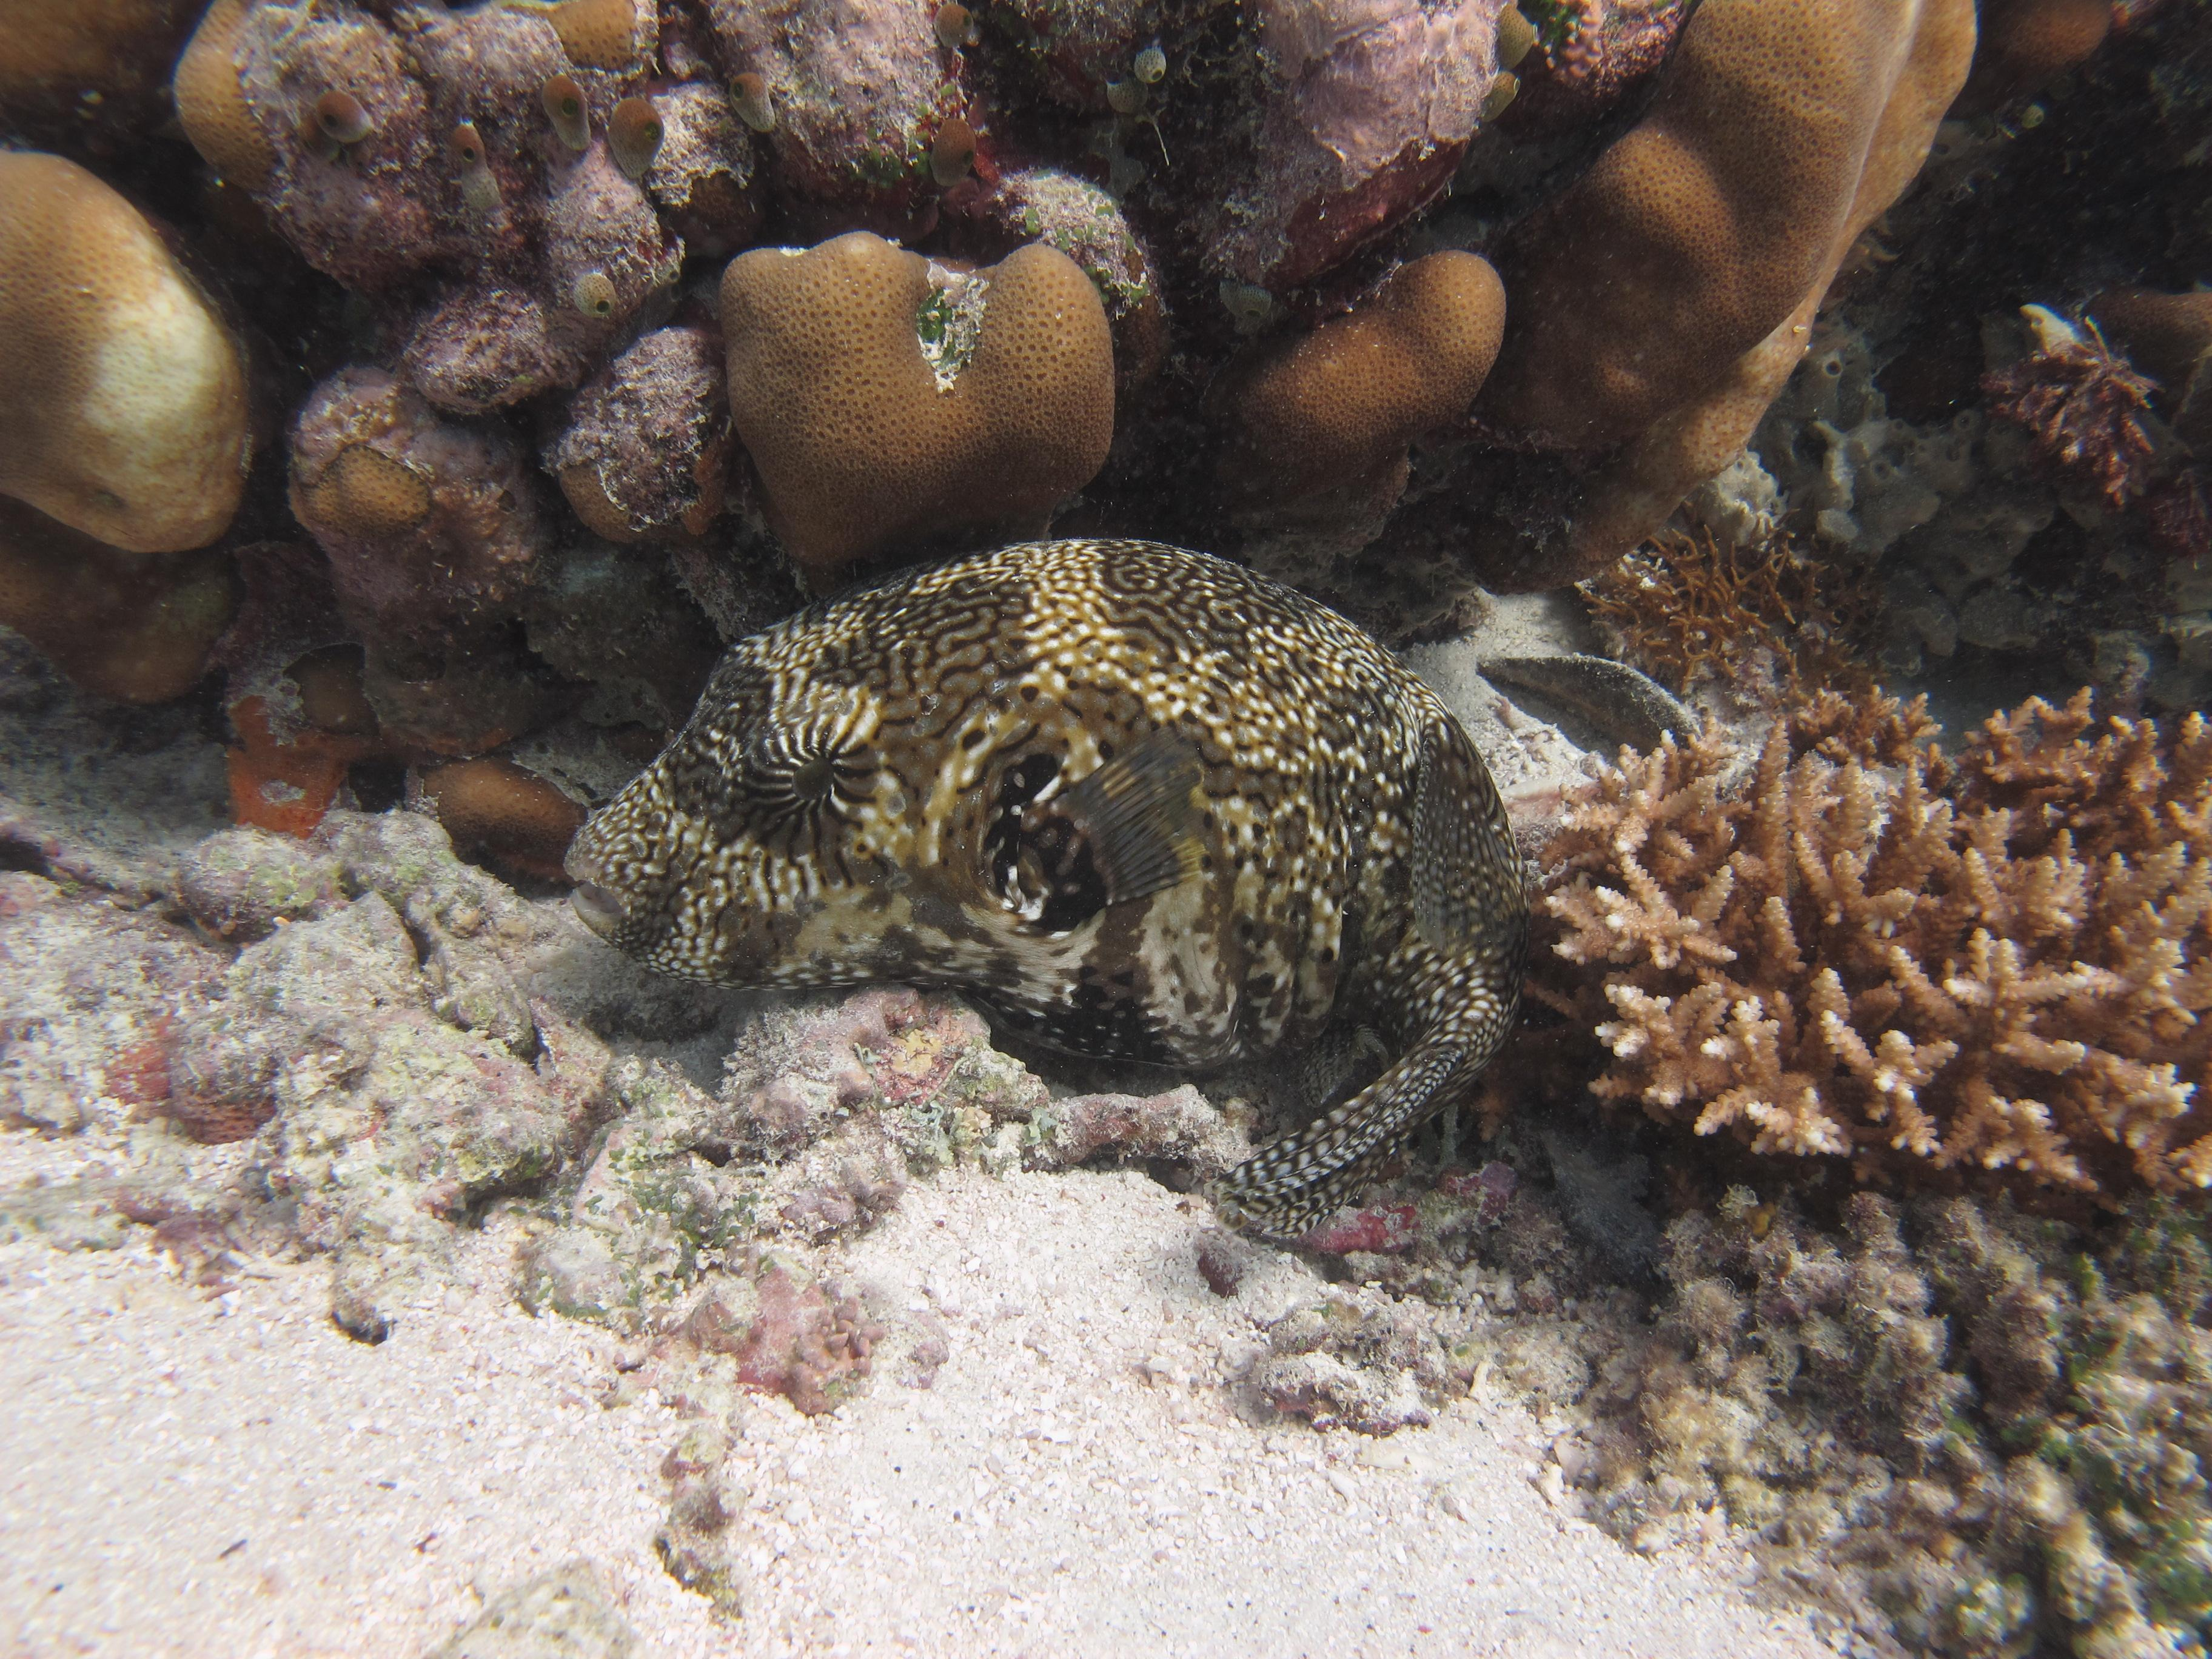Fish: (388, 415, 1592, 1331)
